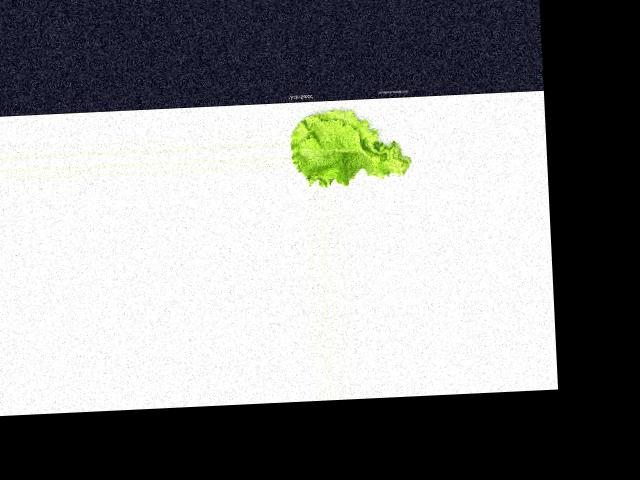lettuce: (288, 100, 409, 189)
